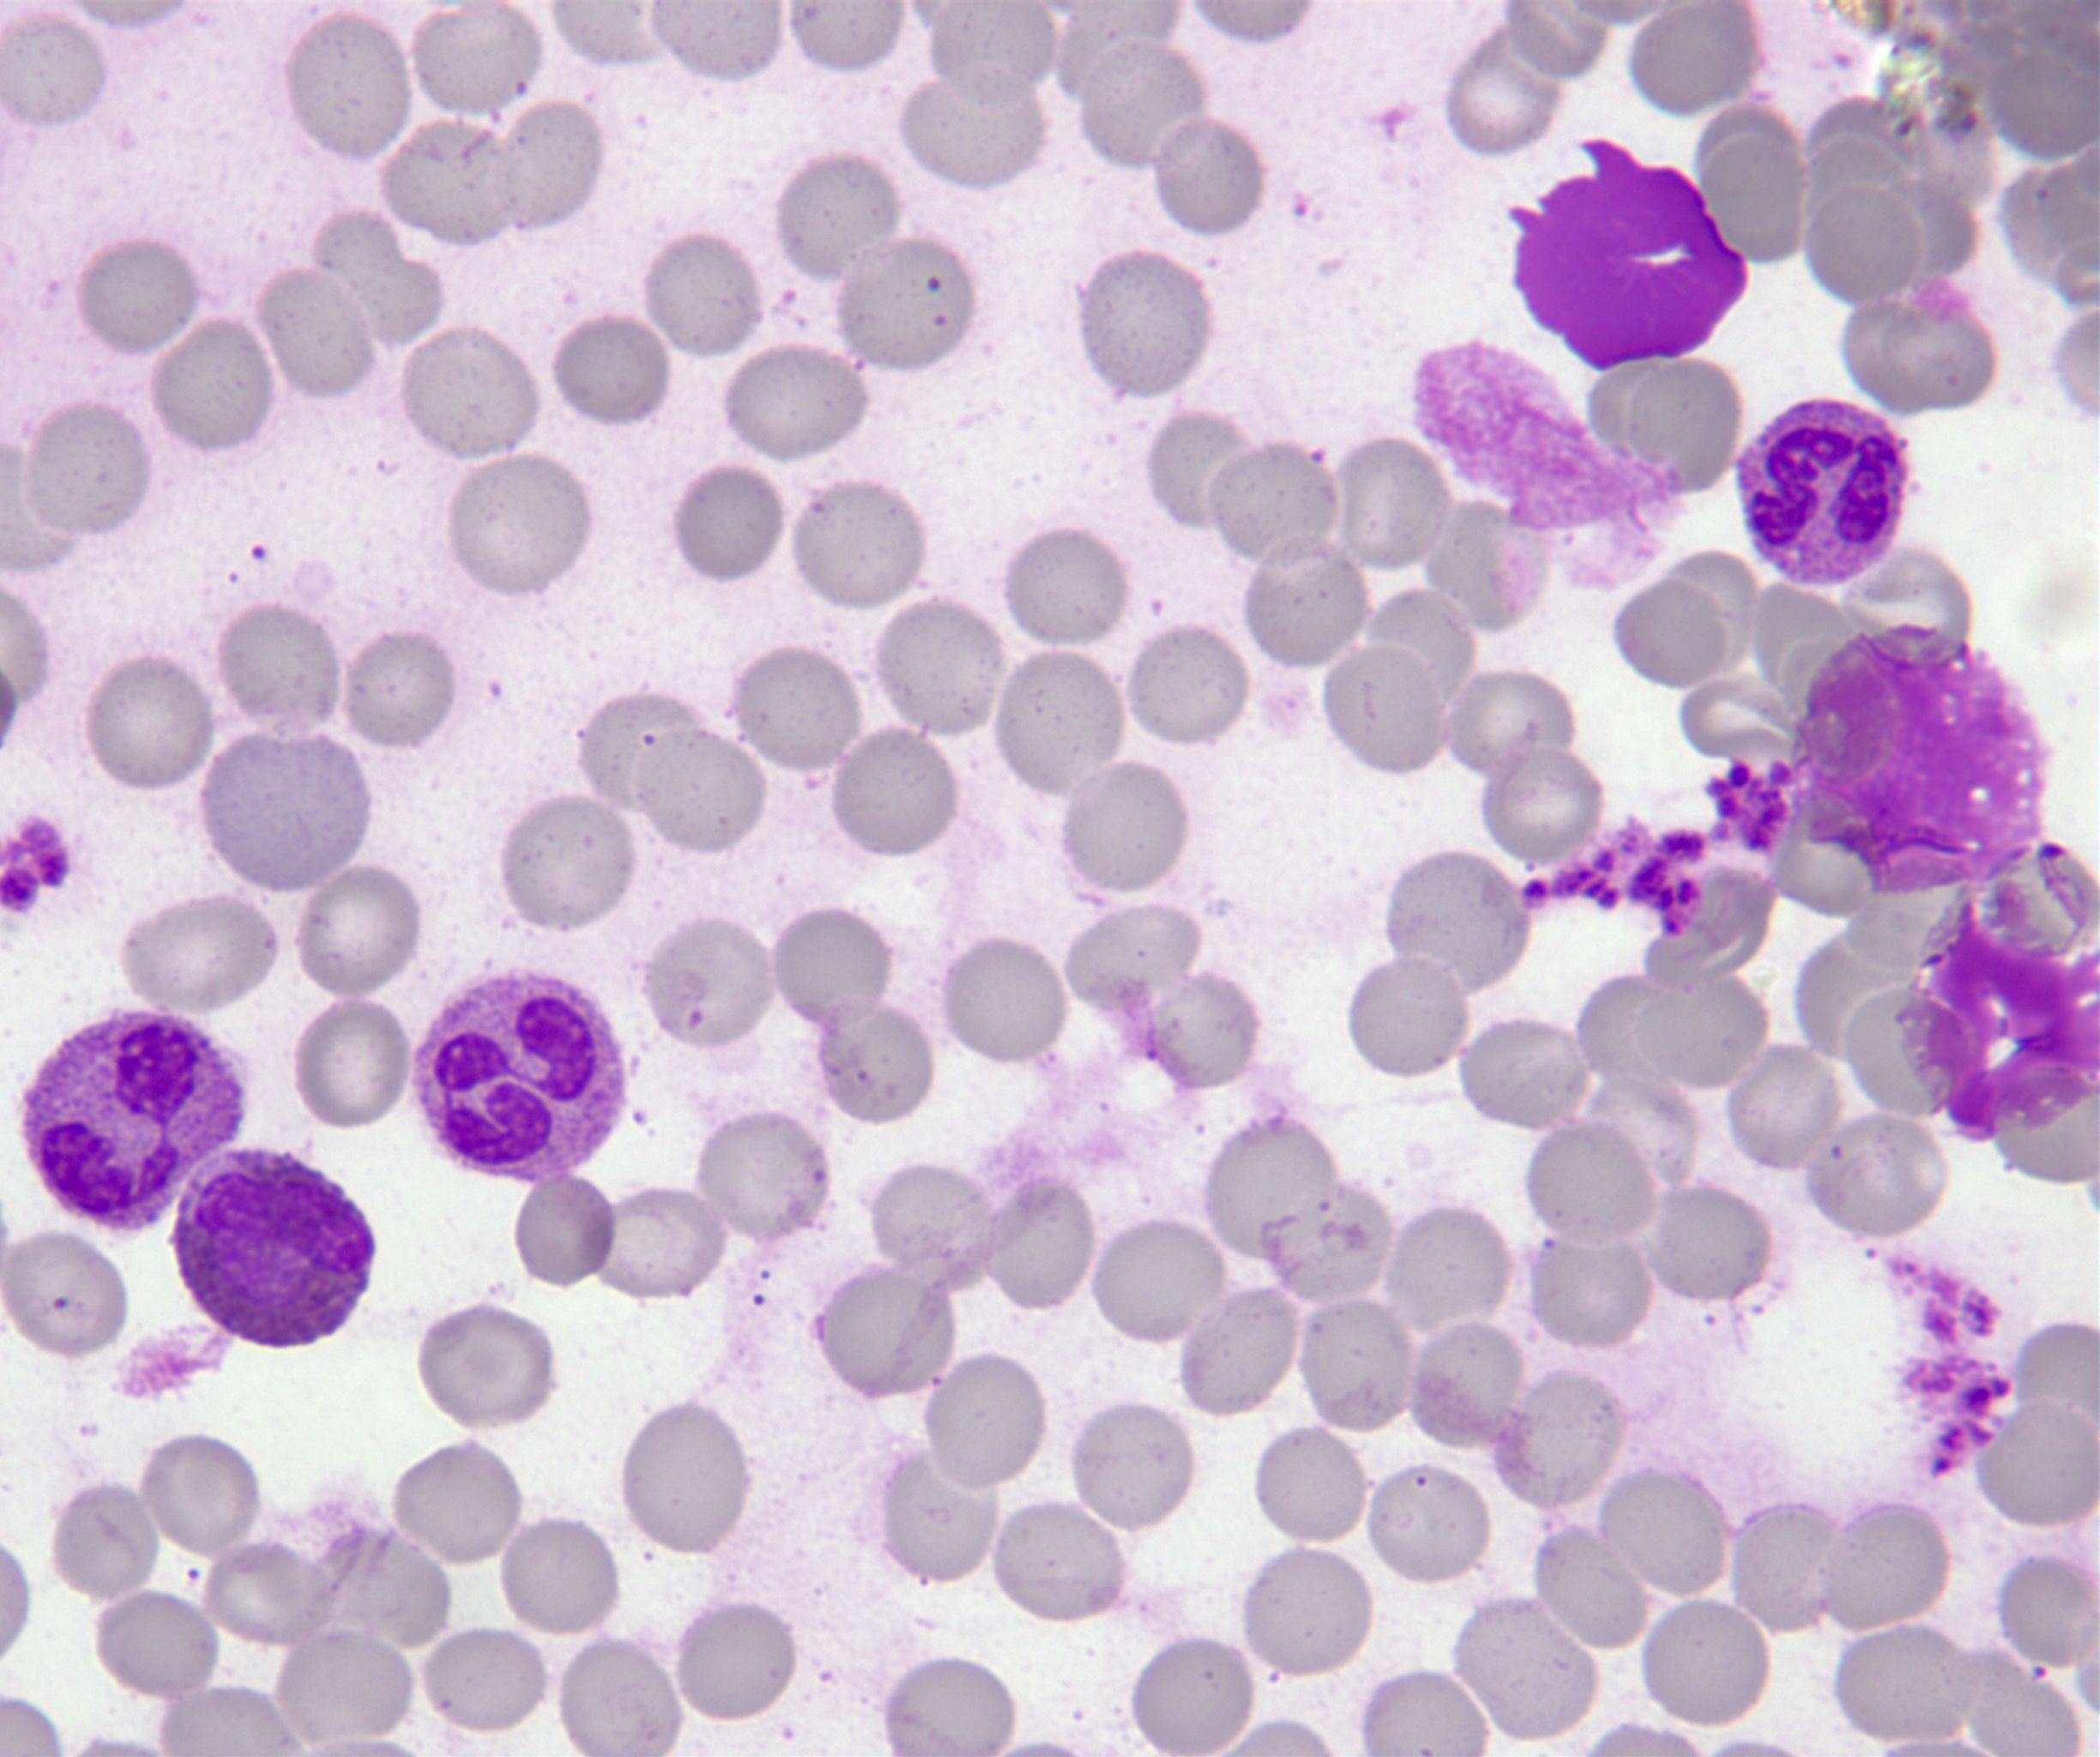6: (19, 1007, 249, 1241), (401, 967, 635, 1190), (1732, 396, 1915, 590)
E3: (167, 1141, 380, 1356)
